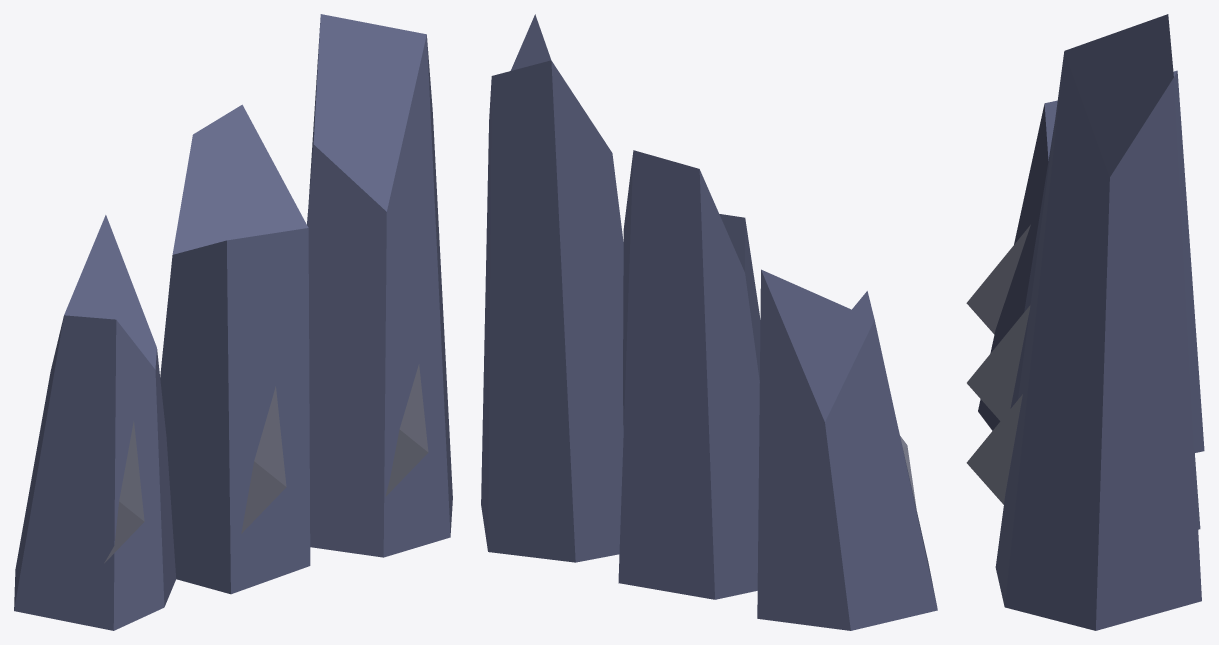
File: map-boundaries-v5__highland_02.glb
3 renders of one model, left to right at view 1: azimuth 30°, elevation 25°; view 2: azimuth 150°, elevation 25°; view 3: azimuth 270°, elevation 25°, orthographic. The views are drawn at different scales.
Parts seen in each view (by area): view 1: highland_02; view 2: highland_02; view 3: highland_02.
Boxes of the visible parts, box(x1,y1,x2,y2) form: highland_02: box(14, 14, 452, 630); highland_02: box(481, 14, 937, 630); highland_02: box(966, 14, 1204, 630).
Size of the model in its own units: 1.57 by 1.64 by 0.63.
